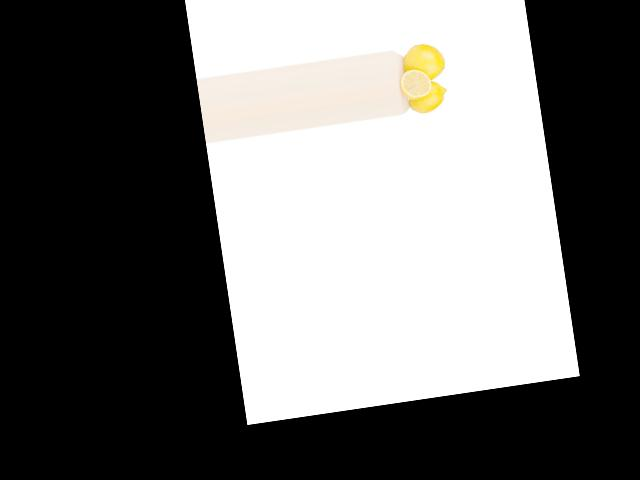lemon: (402, 78, 450, 118)
